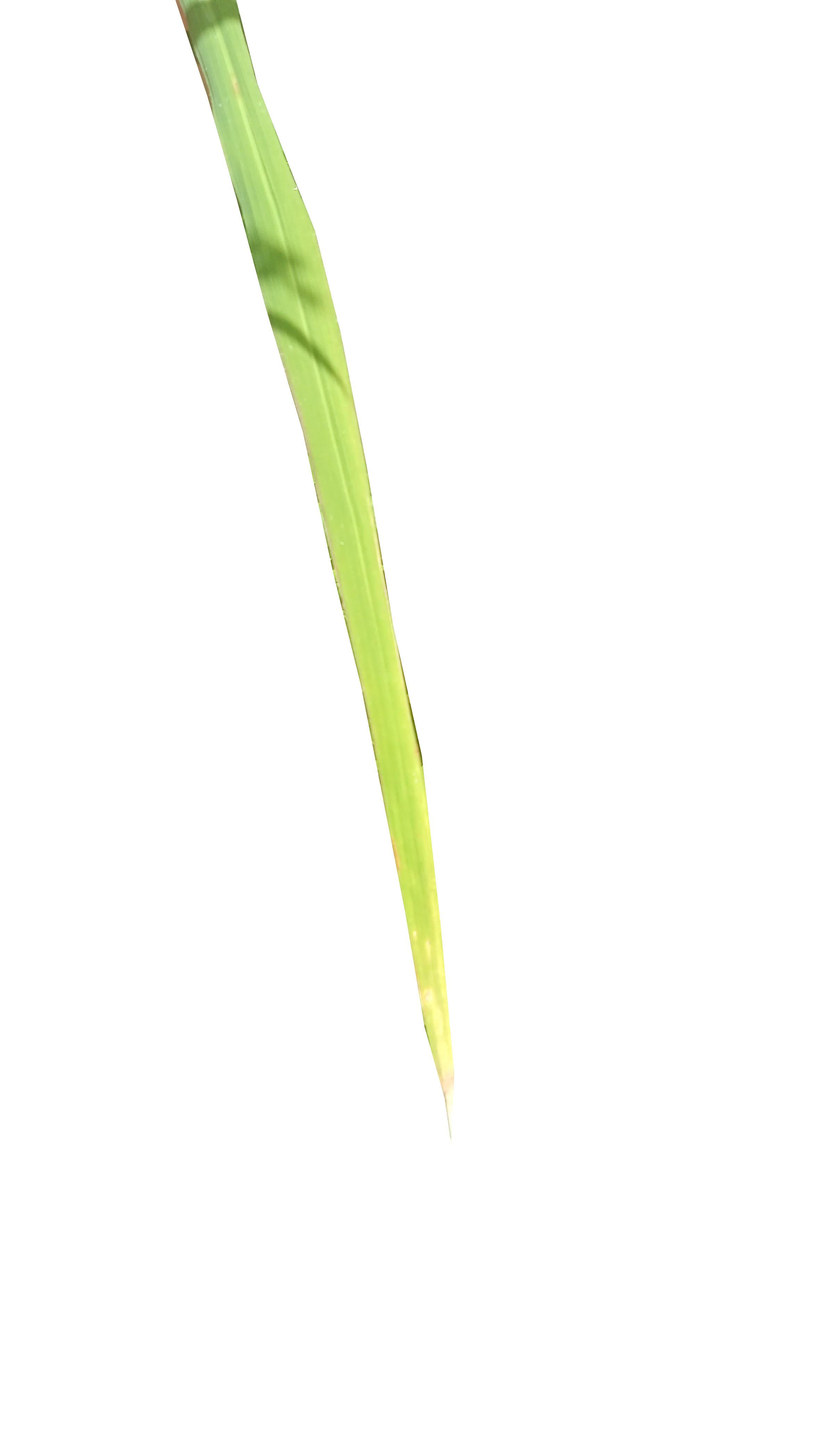Tungro: (181, 0, 448, 1095)
